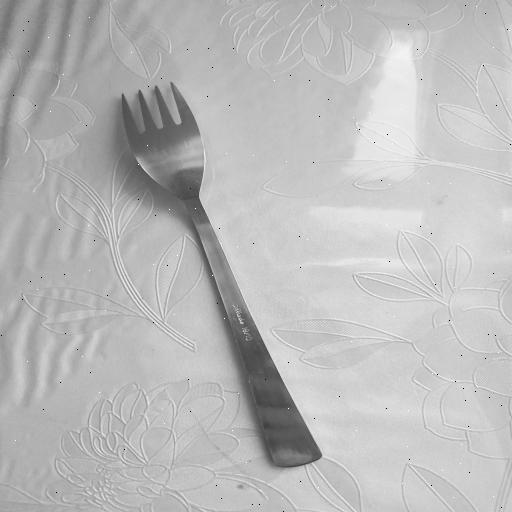fork: (115, 82, 326, 472)
